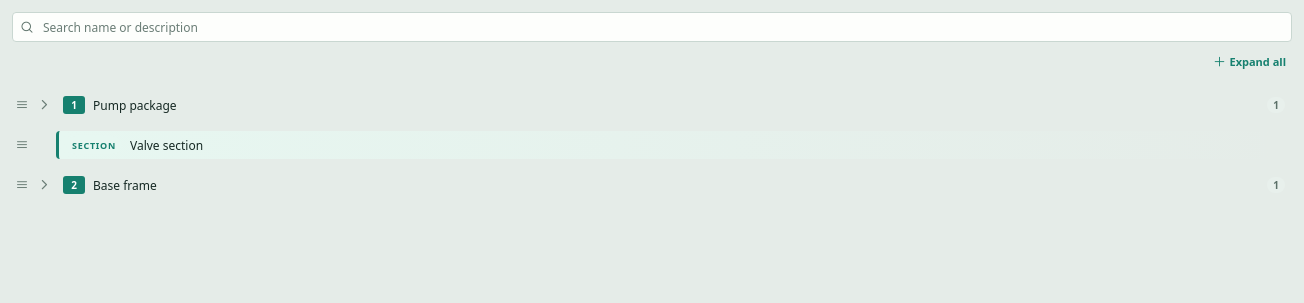
QuotationNavigator › restores the previous expansion state after clearing search
The image size is (1304, 303).
Click the button with class "navigator-toolbar-action" at (1250, 62), box top-left (1208, 50), bottom-right (1292, 73)
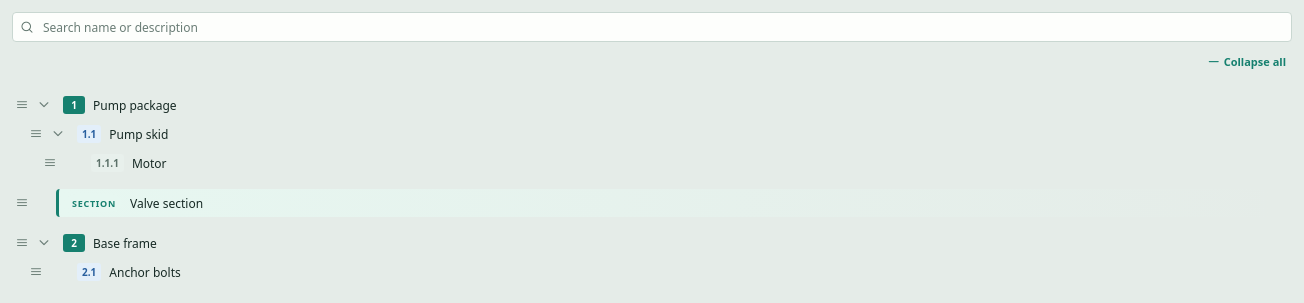
Check: the number of elements with class "nav-row" is 6, box top-left (12, 91), bottom-right (1292, 119); top-left (12, 120), bottom-right (1292, 148); top-left (12, 149), bottom-right (1292, 177); top-left (12, 189), bottom-right (1292, 217); top-left (12, 229), bottom-right (1292, 257); top-left (12, 258), bottom-right (1292, 286)
Type "motor" into the search field with class "navigator-search-input" at (666, 27), box top-left (41, 13), bottom-right (1291, 41)
Wait 130 ms
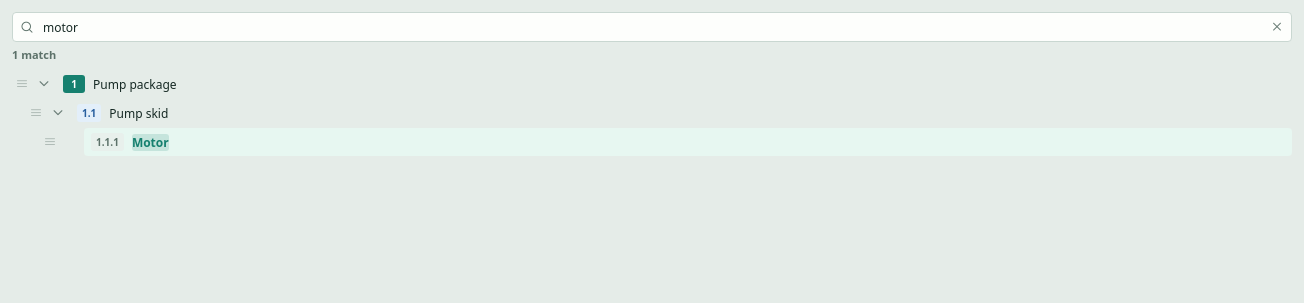
Check: the number of elements with class "nav-row" is 3, box top-left (12, 70), bottom-right (1292, 98); top-left (12, 99), bottom-right (1292, 127); top-left (12, 128), bottom-right (1292, 156)
Click the button with class "navigator-search-clear" at (1277, 27), box top-left (1263, 13), bottom-right (1291, 41)
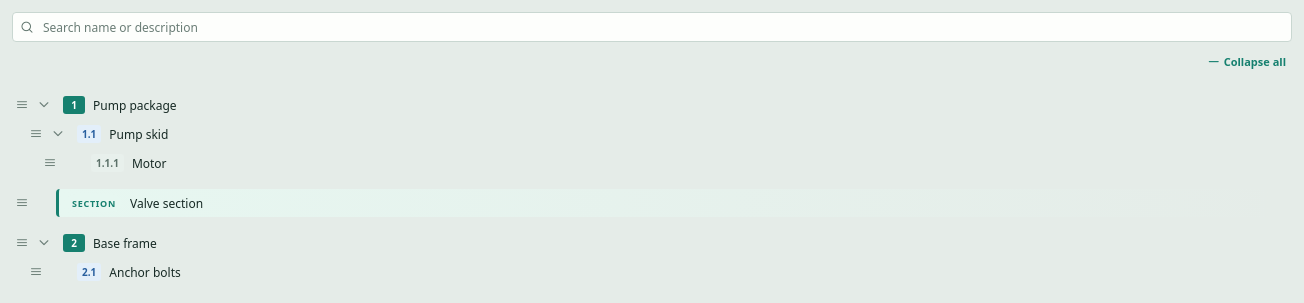
Check: the navigation bar with class "navigator" shows "1.1.1", box top-left (84, 149), bottom-right (1292, 177)
Check: the number of elements with class "nav-row" is 6, box top-left (12, 91), bottom-right (1292, 119); top-left (12, 120), bottom-right (1292, 148); top-left (12, 149), bottom-right (1292, 177); top-left (12, 189), bottom-right (1292, 217); top-left (12, 229), bottom-right (1292, 257); top-left (12, 258), bottom-right (1292, 286)
Check: the navigation bar with class "navigator" shows "2.1", box top-left (70, 258), bottom-right (1292, 286)
